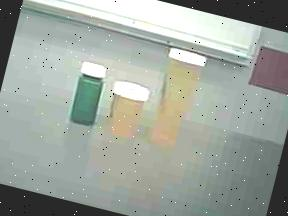Bottle A: (144, 41, 211, 156)
Bottle B: (100, 75, 153, 145)
Bottle C: (64, 55, 114, 132)
